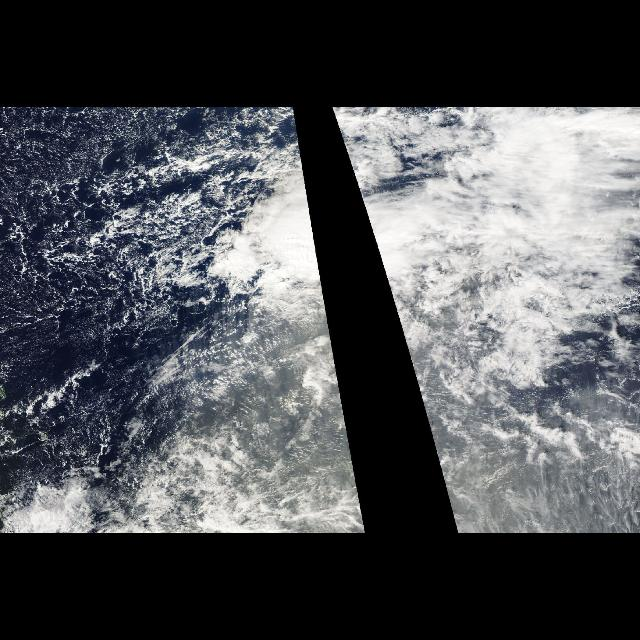Gravel: (1, 109, 207, 325)
